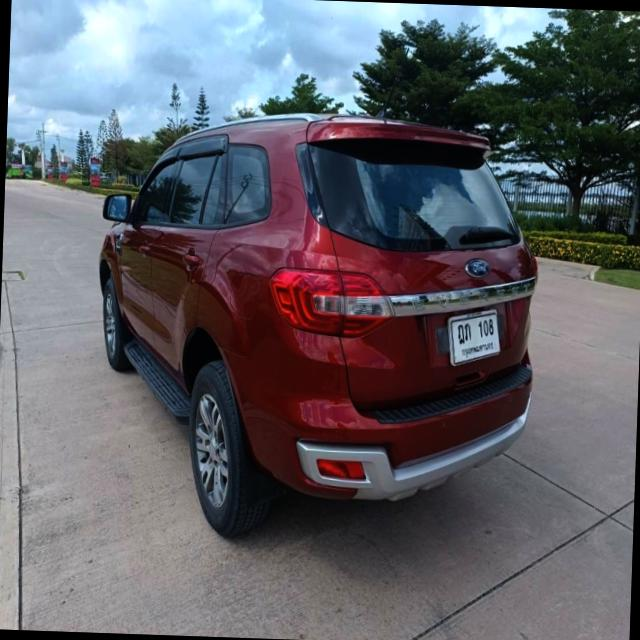license_plate: (444, 304, 506, 371)
